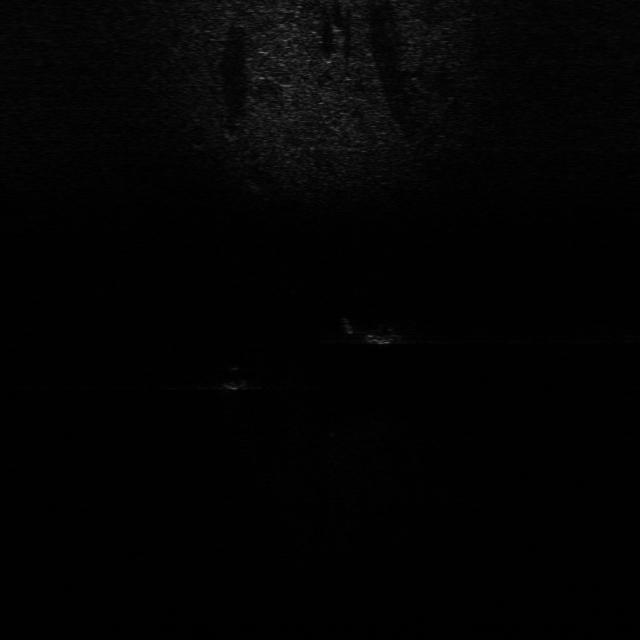ball: (207, 361, 259, 395)
human body: (336, 310, 423, 351)
